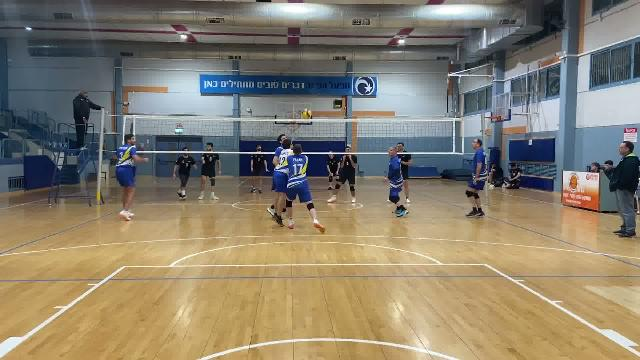ball: (299, 107, 313, 121)
